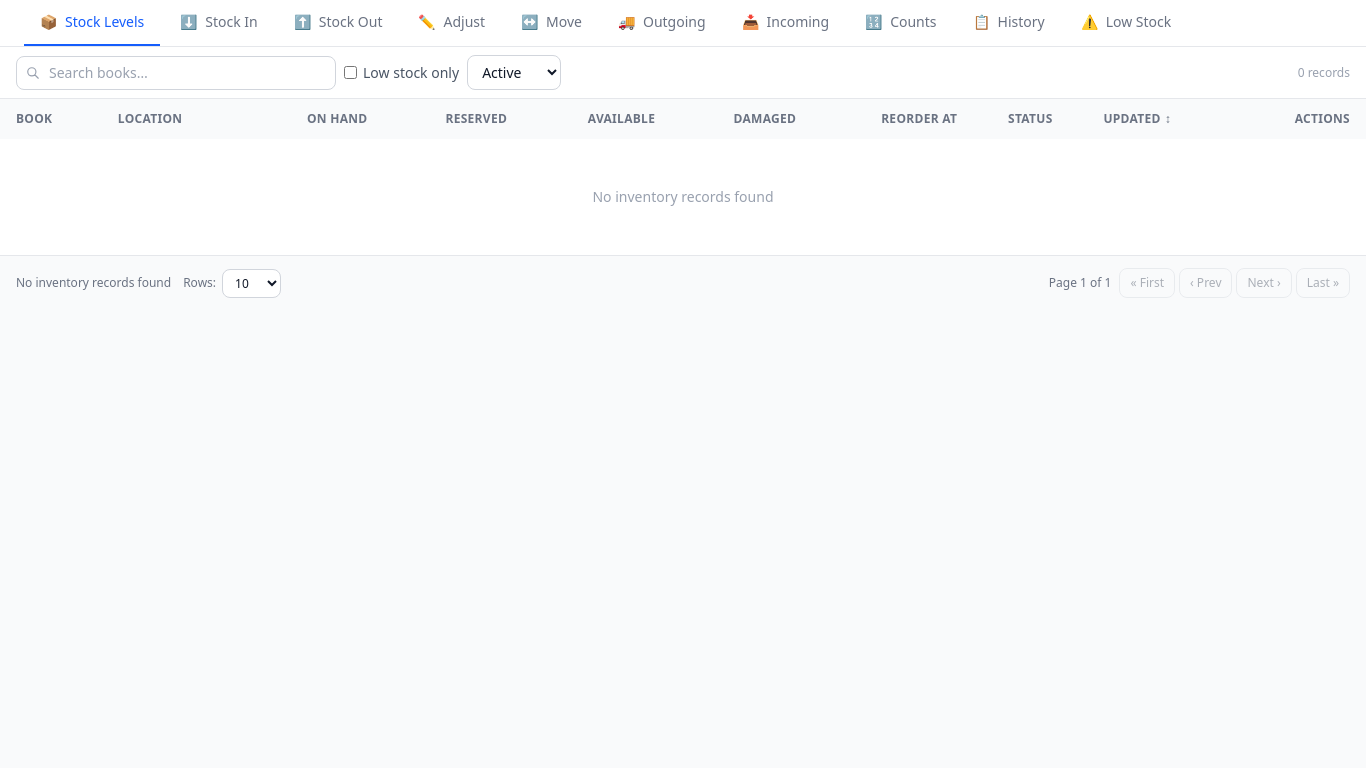
counting (2a) › prints a count sheet with a blank column and nothing expected
The image size is (1366, 768).
Click the button "🔢 Counts" at x=901, y=23, box [849,0,952,46]
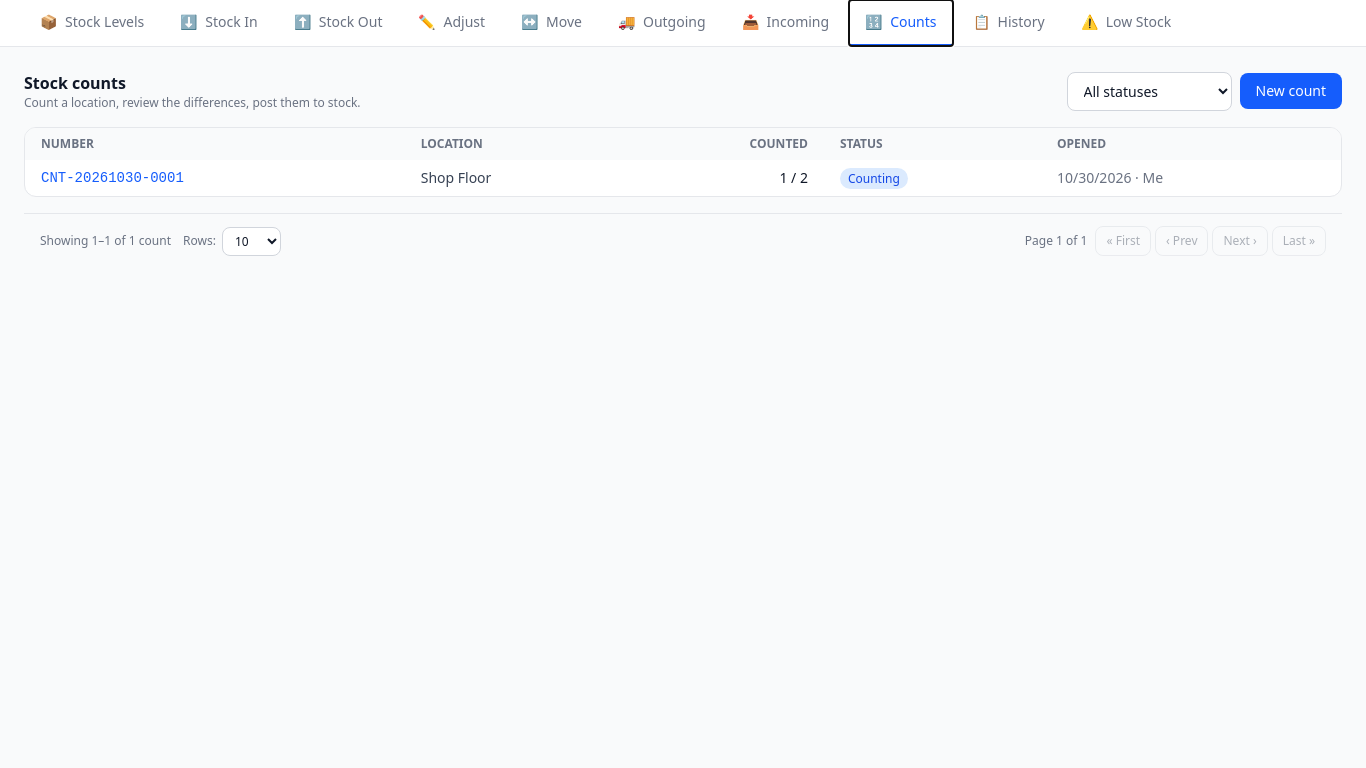
Click the button "CNT-20261030-0001" at x=112, y=178, box [41,168,184,188]
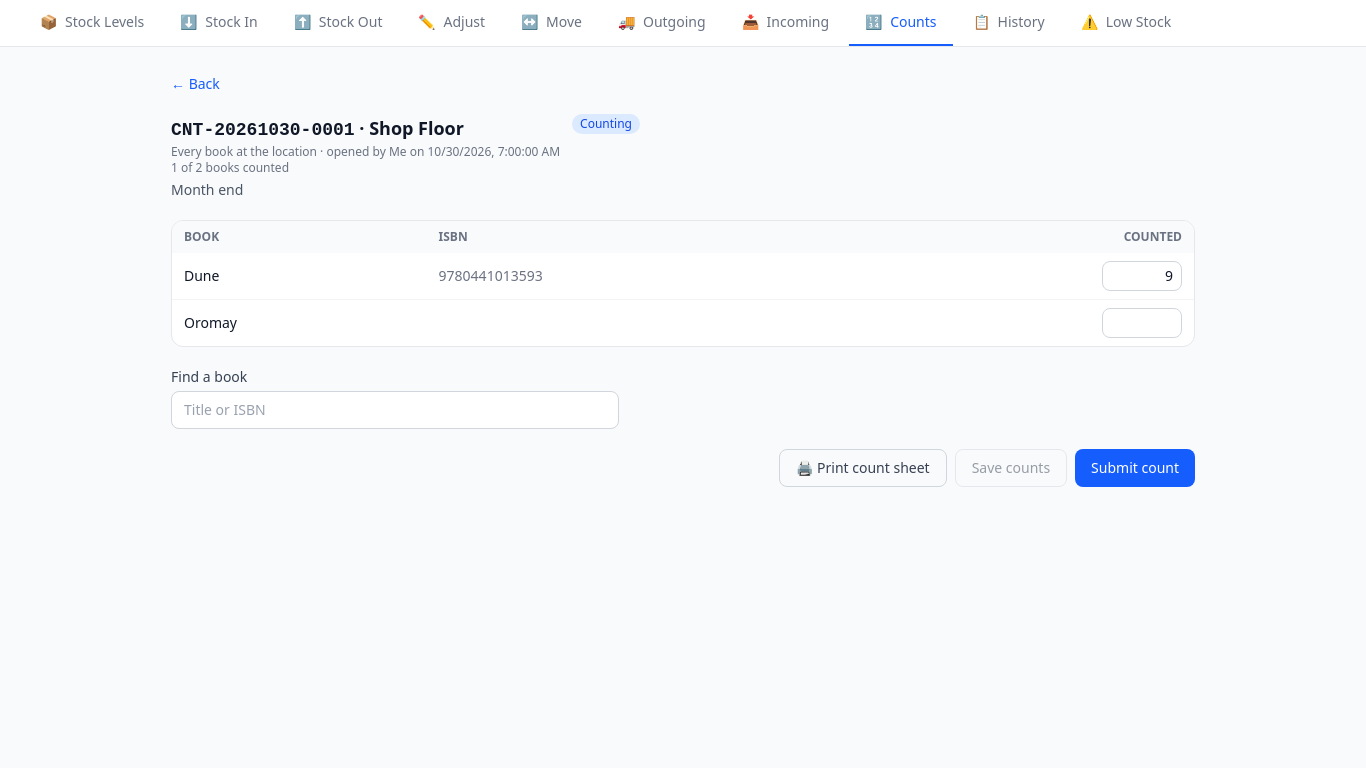
expect the heading "CNT-20261030-0001 · Shop Floor" is shown: met, box [171,116,464,140]
Click the button "🖨 Print count sheet" at x=863, y=468, box [779,449,947,487]
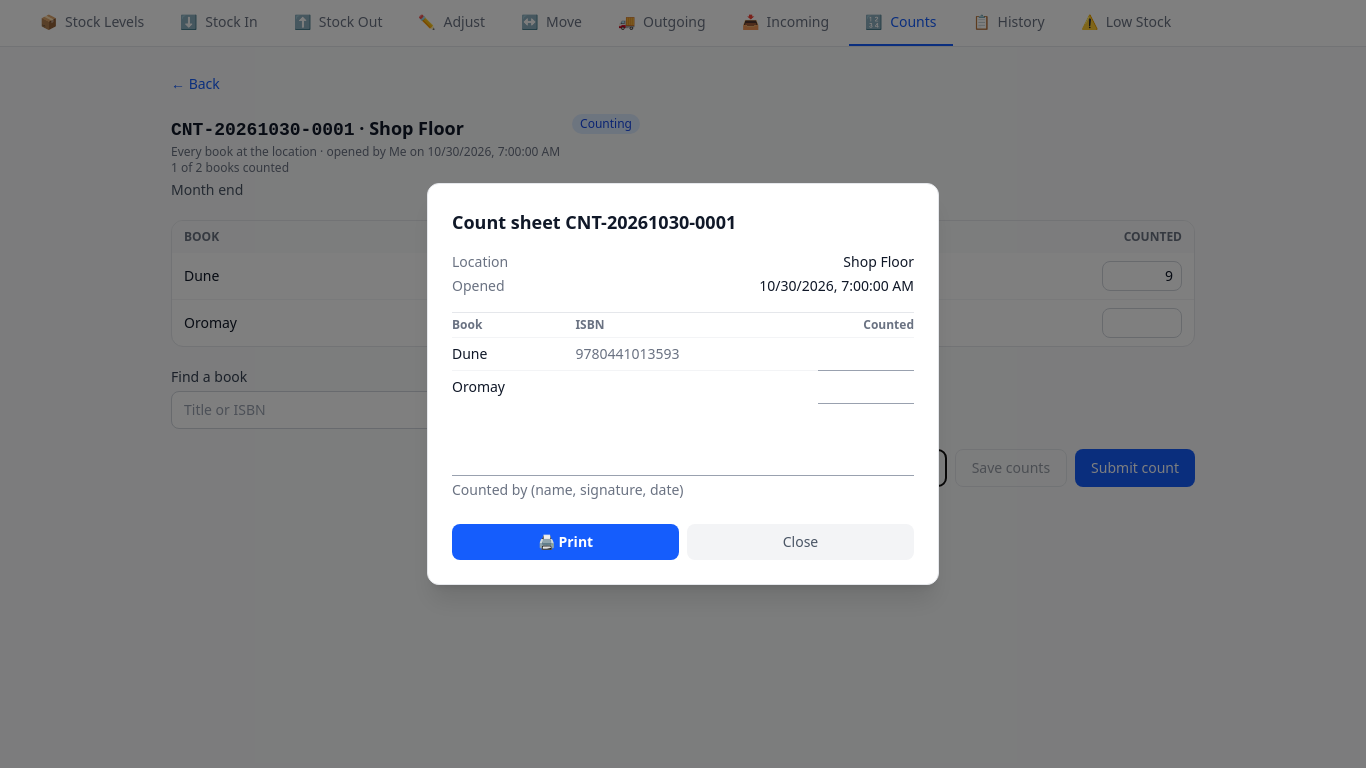
expect the text "Shop Floor" is shown: met, box [843,252,914,272]
expect the text "Dune" is shown: met, box [452,338,576,371]
expect the text "Oromay" is shown: met, box [452,371,576,403]
